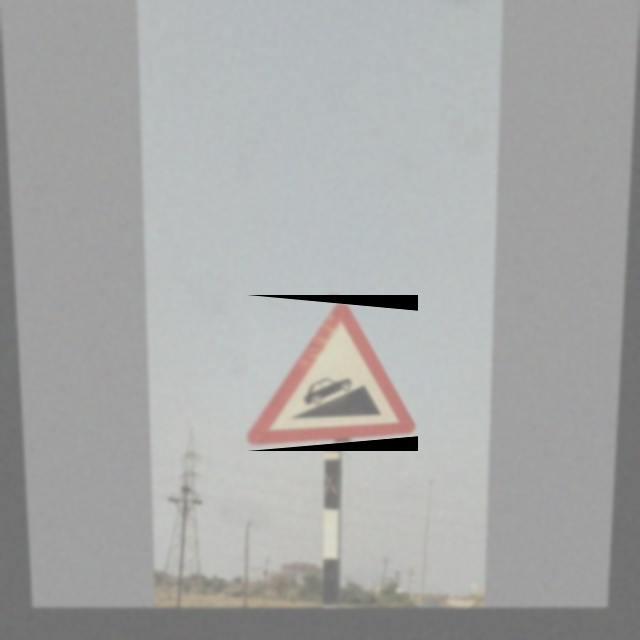Steep_Ascent: (247, 295, 418, 451)
